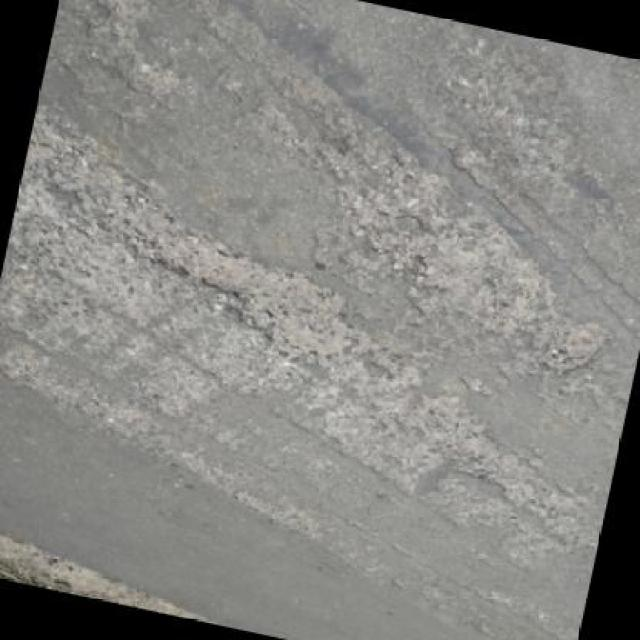pothole: (135, 220, 368, 372), (395, 392, 553, 514), (535, 317, 611, 386)
